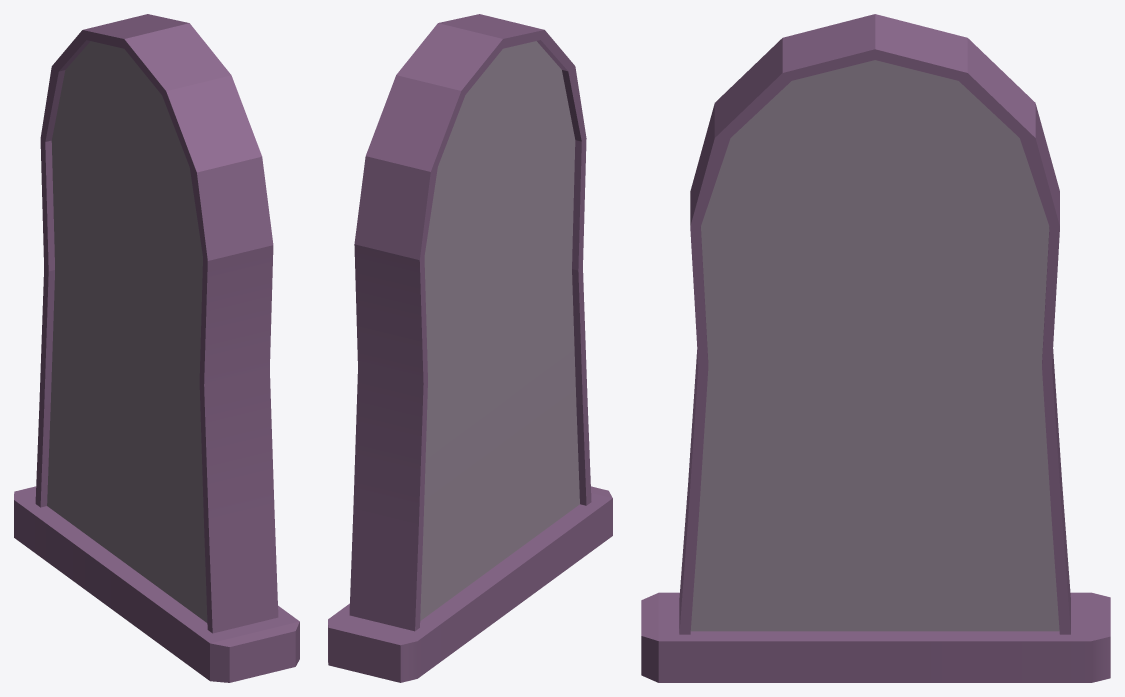
File: Grave1.fbx
3 renders of one model, left to right at view 1: azimuth 30°, elevation 25°; view 2: azimuth 150°, elevation 25°; view 3: azimuth 270°, elevation 25°, orthographic. The views are drawn at different scales.
Visible parts, largest first — view 1: pCylinder2; view 2: pCylinder2; view 3: pCylinder2.
Part boxes in pixels (x1,y1,x2,y2): pCylinder2: (14,14,299,682); pCylinder2: (328,14,612,682); pCylinder2: (641,14,1110,682).
Bounding box in the file's own units: 0.5846 × 3.53 × 2.39.
